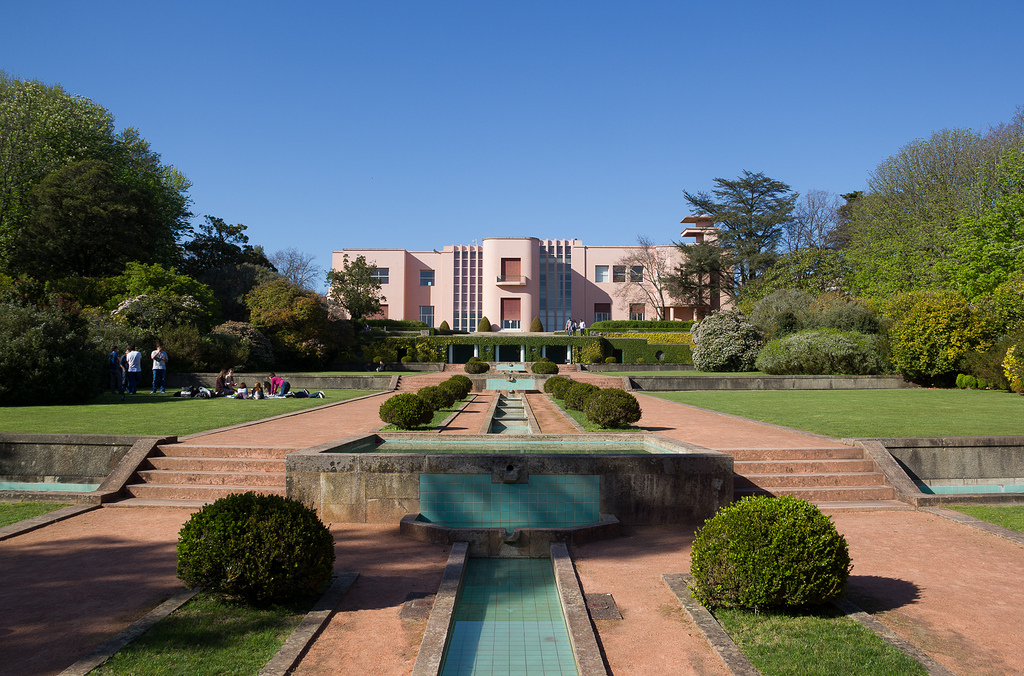serralves: (328, 212, 741, 338)
